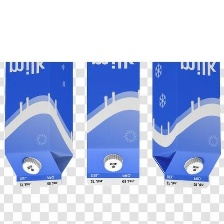carton: (148, 60, 222, 191), (3, 59, 76, 189), (81, 59, 144, 188)
